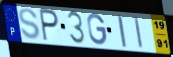3: (66, 10, 87, 46)
G: (86, 13, 108, 46)
I: (133, 16, 145, 51), (116, 15, 128, 49)
P: (38, 8, 60, 44)
S: (18, 7, 41, 41)
